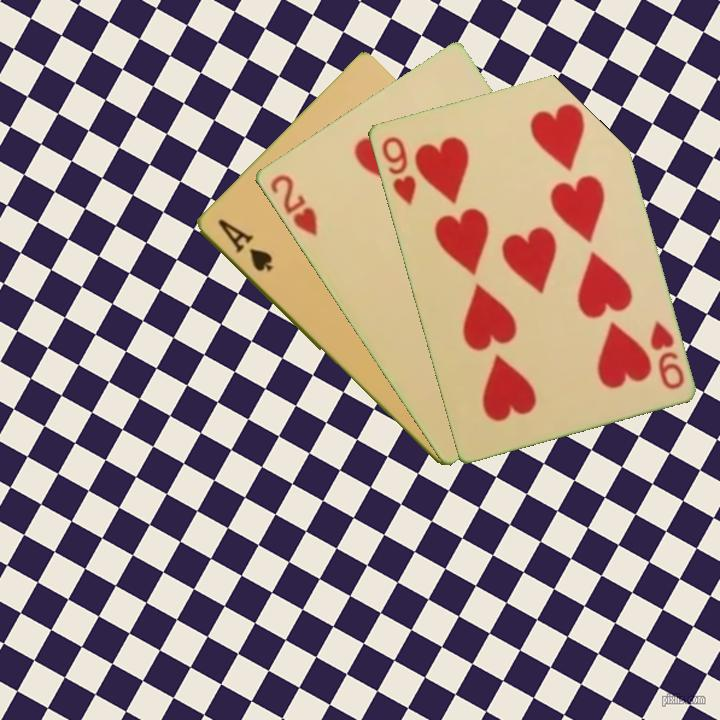2h: (266, 170, 320, 239)
9h: (378, 132, 419, 208), (646, 317, 687, 392)
As: (213, 215, 275, 275)
